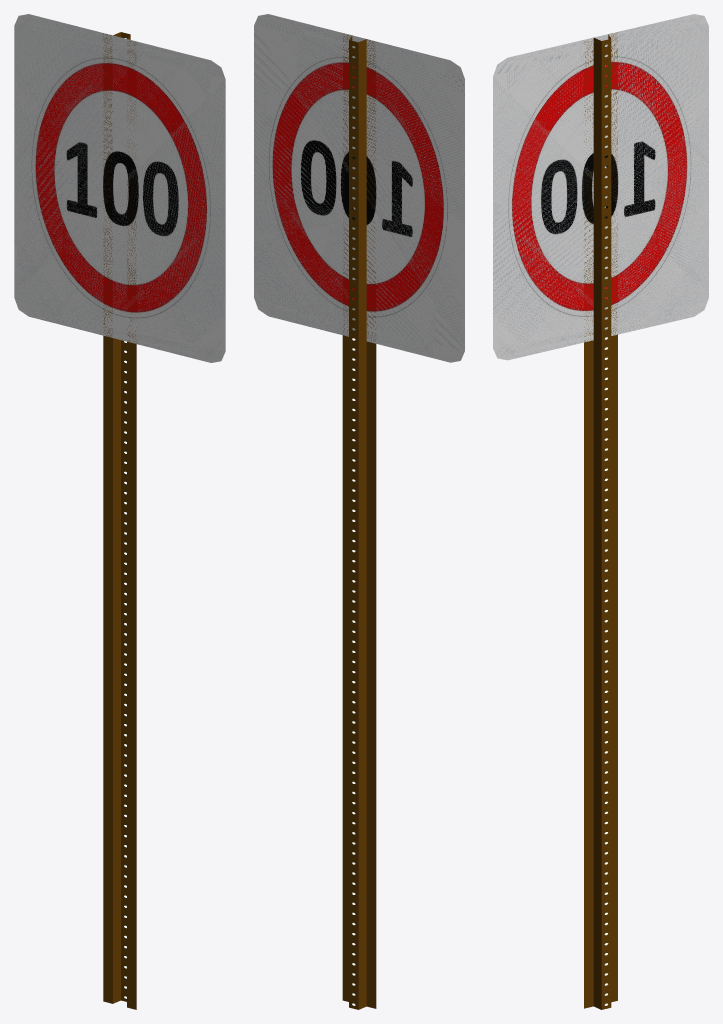
The model's file is limit100.dae.
3 views of the same model, side by side, from view 1: azimuth 30°, elevation 25°; view 2: azimuth 210°, elevation 25°; view 3: azimuth 270°, elevation 25° (orthographic).
Visible parts, largest first — view 1: group_1, Component_11 (×2), Component_12, Component_10; view 2: group_1, Component_11 (×2), Component_10, Component_12; view 3: group_1, Component_11 (×2), Component_10, Component_12.
Boxes of the visible parts, <box> form: group_1: <box>14,14,225,362</box>; Component_11 (×2): <box>103,335,136,1009</box>; Component_12: <box>113,32,120,1003</box>; Component_10: <box>121,32,130,1001</box>; group_1: <box>254,14,464,362</box>; Component_11 (×2): <box>342,335,376,1008</box>; Component_10: <box>349,40,358,1009</box>; Component_12: <box>358,39,366,1009</box>; group_1: <box>493,14,708,360</box>; Component_11 (×2): <box>584,334,617,1008</box>; Component_10: <box>601,39,611,1009</box>; Component_12: <box>593,38,601,1009</box>.
Size of the model in its own units: 10.72 by 19.37 by 96.
4 materials, 4 textured.
